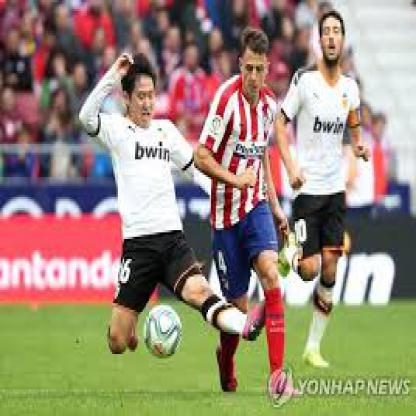Fall_Down: (77, 51, 277, 355)
